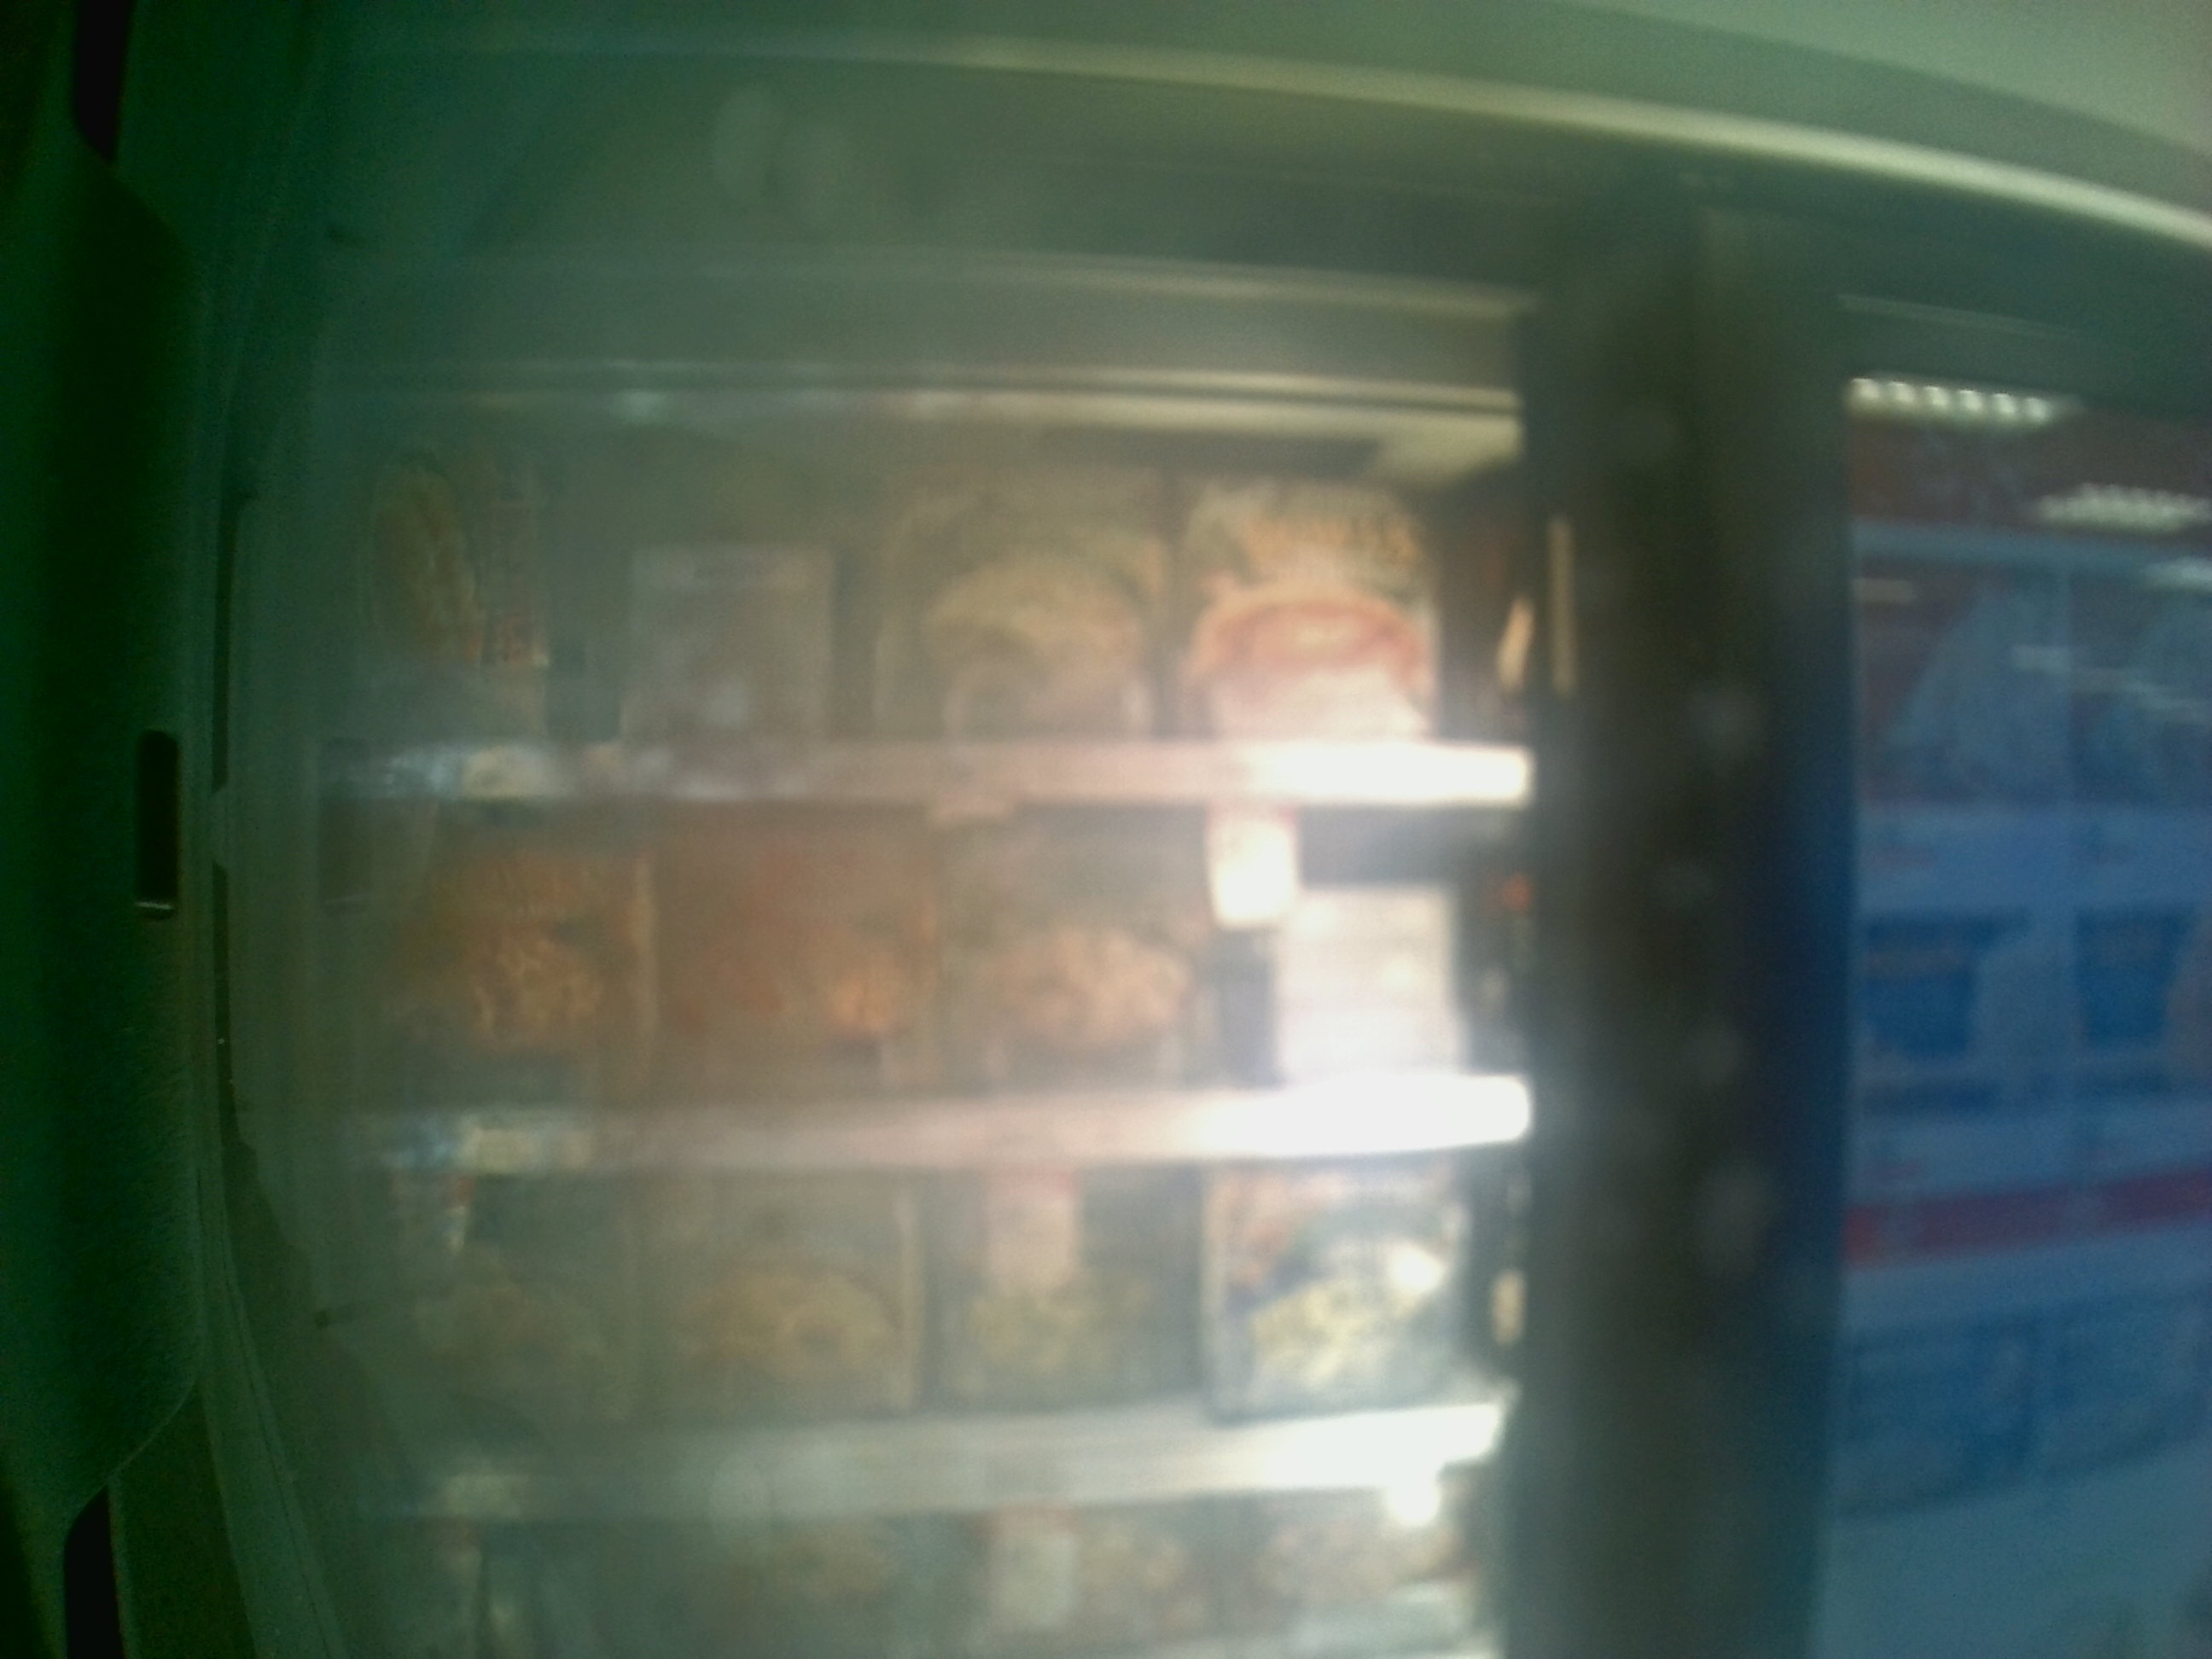frozen-food-shelf: (307, 807, 1545, 1190)
